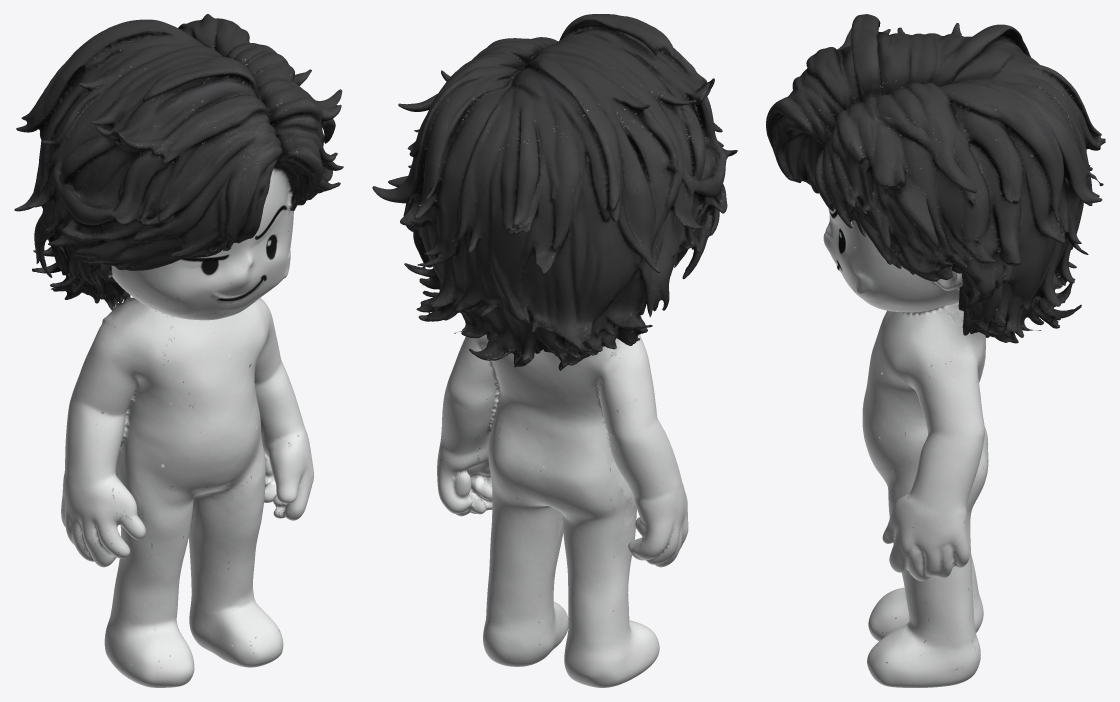
The model's file is girlChar_Smirk_2.glb.
3 views of the same model, side by side, from view 1: azimuth 30°, elevation 25°; view 2: azimuth 150°, elevation 25°; view 3: azimuth 270°, elevation 25° (orthographic).
Parts seen in each view (by area): view 1: Char_Girl_Smirk; view 2: Char_Girl_Smirk; view 3: Char_Girl_Smirk.
Boxes of the visible parts, x1=… form: Char_Girl_Smirk: x1=14, y1=14, x2=343, y2=687; Char_Girl_Smirk: x1=372, y1=14, x2=737, y2=687; Char_Girl_Smirk: x1=766, y1=14, x2=1105, y2=687.
Size of the model in its own units: 0.6025 by 1.2 by 0.5955.
Materials: 1 (1 with a texture image).
